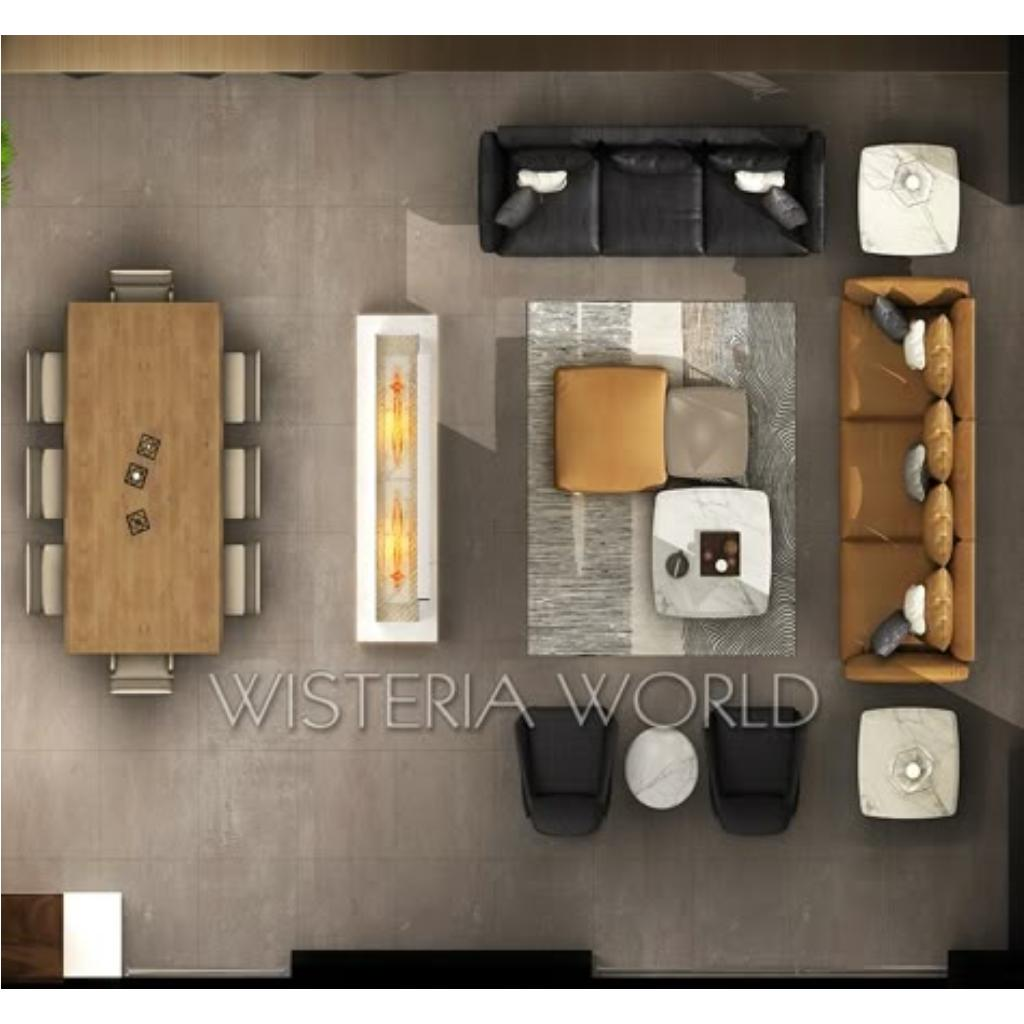chair: (509, 707, 621, 845), (704, 710, 808, 838), (24, 542, 68, 622), (22, 354, 66, 426), (108, 656, 176, 702), (223, 542, 263, 620), (222, 346, 260, 424), (23, 450, 61, 522), (222, 449, 258, 521), (106, 268, 178, 302)
coffee table: (652, 492, 772, 620), (630, 732, 702, 812)
dining table: (66, 300, 220, 650)
fireplace: (356, 313, 436, 645)
ottoman: (555, 370, 663, 488), (667, 390, 751, 482)
rug: (524, 295, 808, 663)
side table: (856, 145, 962, 255), (858, 712, 960, 818)
sofa: (843, 277, 977, 683), (476, 122, 828, 260)
window: (1001, 210, 1021, 726), (595, 954, 945, 978)
